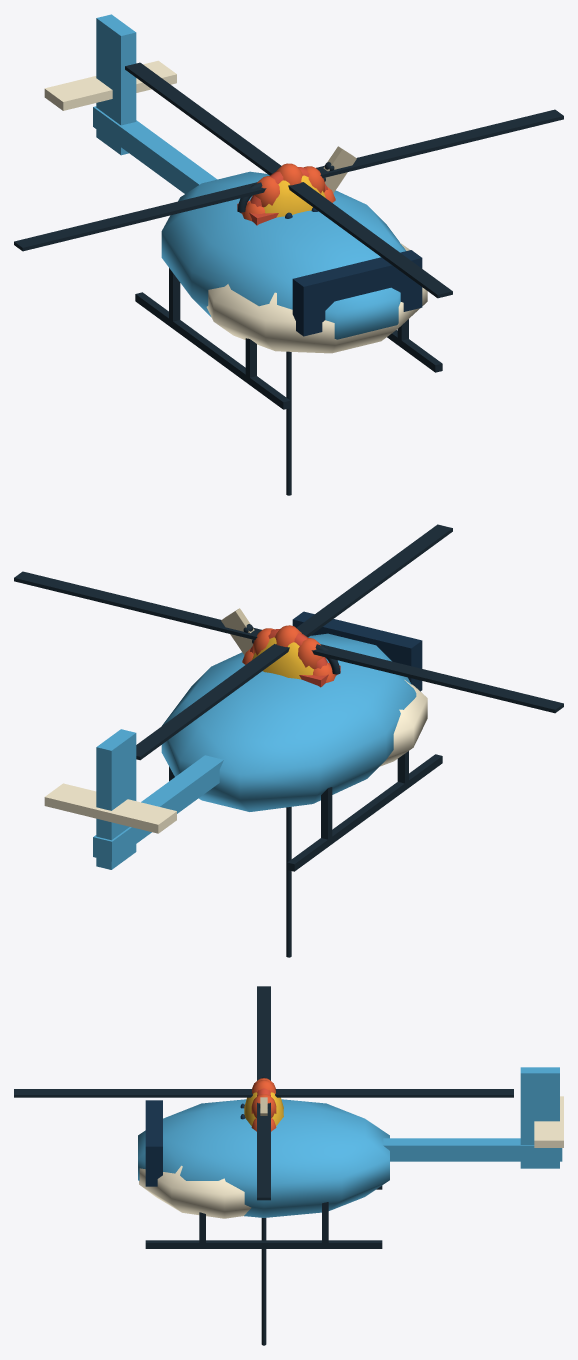
File: powers.glb
3 views of the same model, one above another, from view 1: azimuth 30°, elevation 25°; view 2: azimuth 150°, elevation 25°; view 3: azimuth 270°, elevation 25° (orthographic). The views are drawn at different scales.
Parts seen in each view (by area): view 1: rescue, rotor, lion, afuera; view 2: rescue, rotor, lion, afuera; view 3: rescue, rotor, lion.
Part boxes in pixels (<box>): rescue: <box>44,14,442,495</box>; rotor: <box>14,62,563,298</box>; lion: <box>242,163,335,221</box>; afuera: <box>237,146,356,225</box>; rescue: <box>44,611,442,957</box>; rotor: <box>14,524,563,760</box>; lion: <box>242,625,335,682</box>; afuera: <box>221,608,340,687</box>; rescue: <box>138,1067,563,1345</box>; rotor: <box>14,986,513,1200</box>; lion: <box>240,1078,283,1131</box>.
Bounding box in the file's own units: 5.7 × 3.45 × 6.27.
